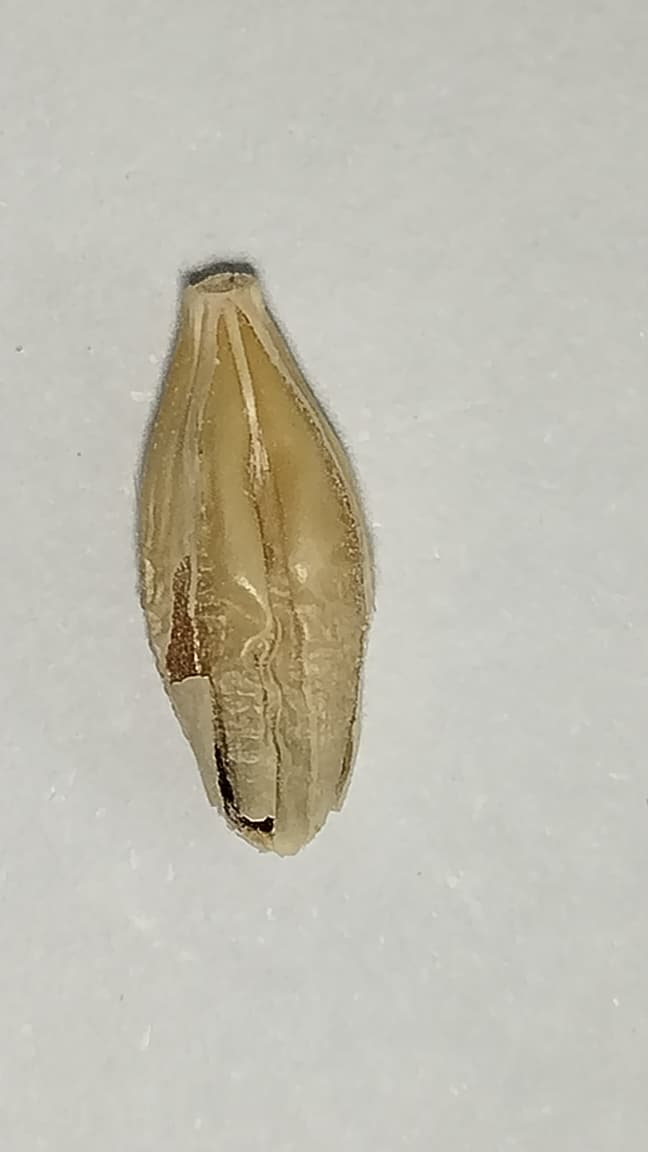healthy-70-60: (141, 272, 371, 854)
insectdamage: (185, 709, 336, 862)
staindamage: (140, 556, 274, 686)
